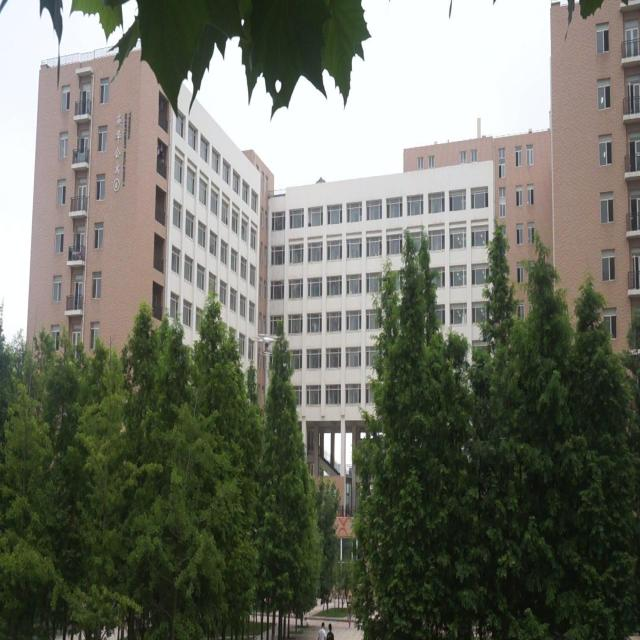UAV: (252, 333, 280, 356)
